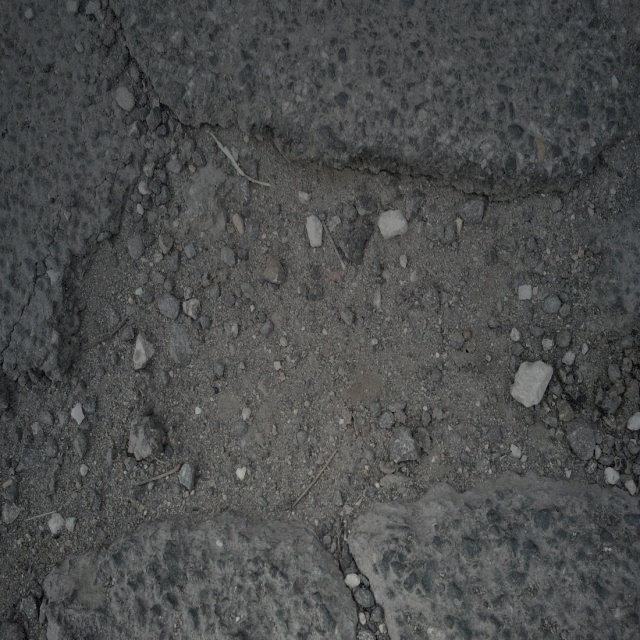pothole: (35, 91, 618, 554)
